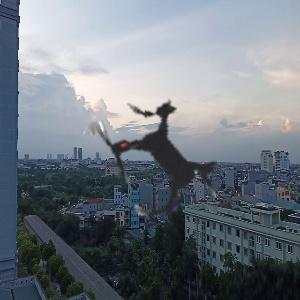drone: (50, 55, 264, 269)
